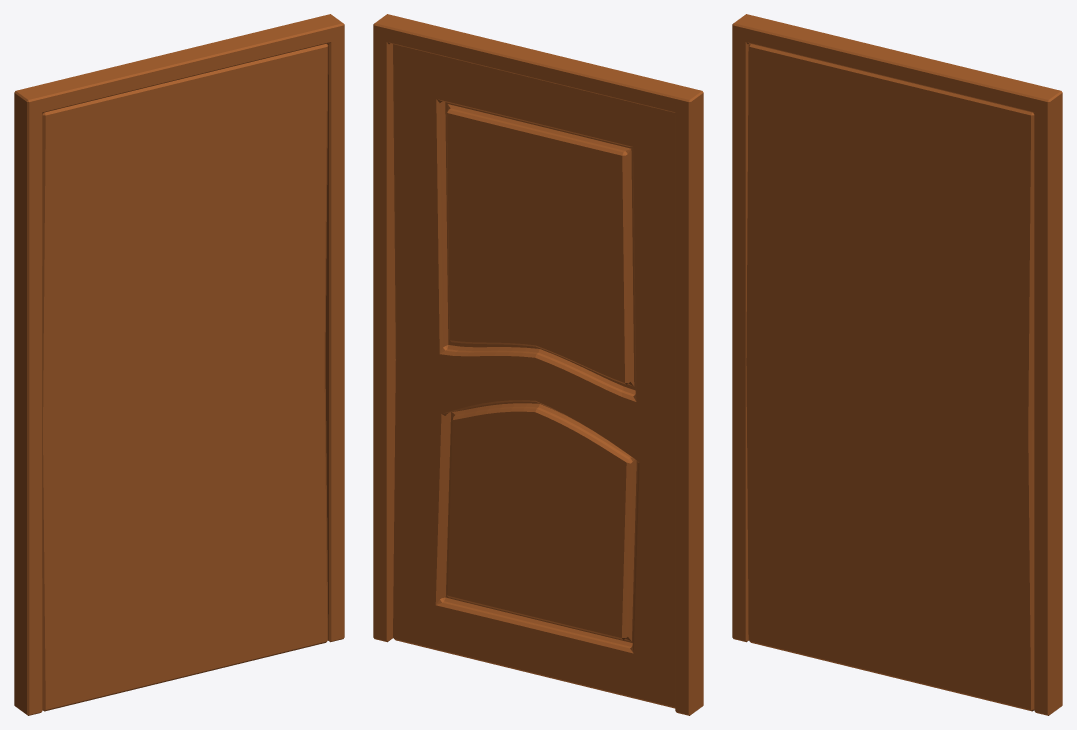
Rendered from Porta escritorio.fbx.
The picture shows the model from 3 angles, left to right: view 1: azimuth 30°, elevation 25°; view 2: azimuth 150°, elevation 25°; view 3: azimuth 330°, elevation 25°; orthographic projection.
Parts seen in each view (by area): view 1: Plane.001; view 2: Plane.001; view 3: Plane.001.
Boxes of the visible parts, x1=… form: Plane.001: x1=14, y1=14, x2=344, y2=715; Plane.001: x1=373, y1=14, x2=703, y2=715; Plane.001: x1=732, y1=14, x2=1062, y2=715.
Size of the model in its own units: 222 by 411 by 17.25.
